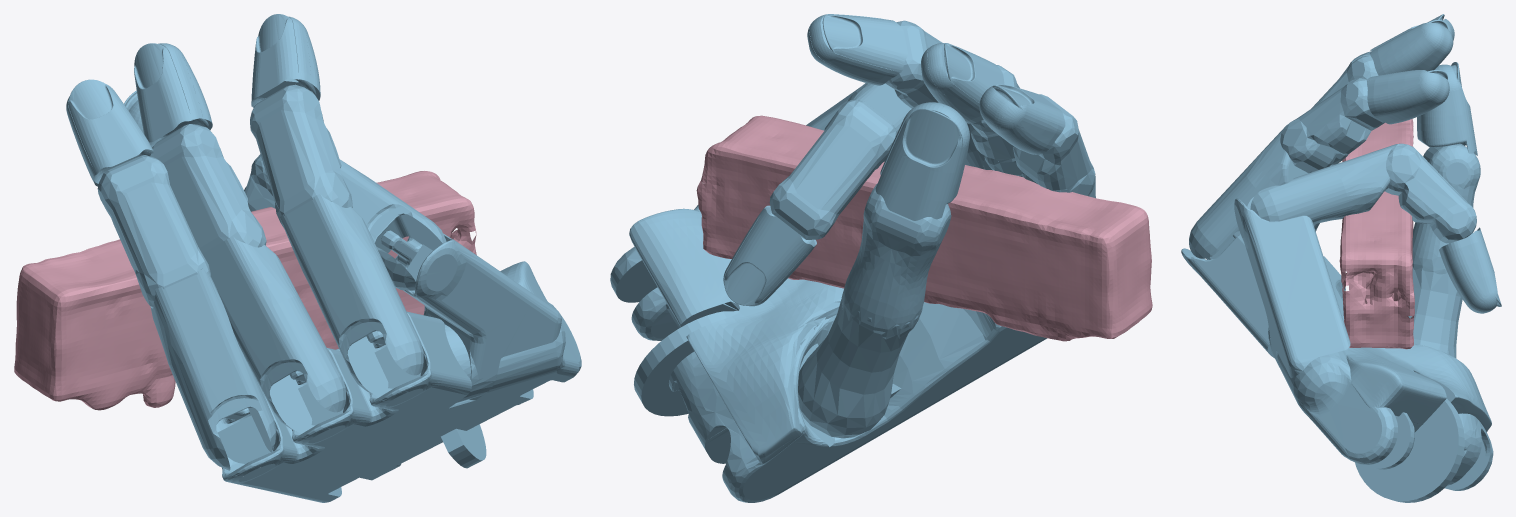
3 views of the same model, side by side, from view 1: azimuth 30°, elevation 25°; view 2: azimuth 150°, elevation 25°; view 3: azimuth 270°, elevation 25° (orthographic). The views are drawn at different scales.
Parts seen in each view (by area): view 1: hand, world; view 2: hand, world; view 3: hand, world.
Part boxes in pixels (left/top/right/bottom): hand: left=66, top=14, right=581, bottom=502; world: left=14, top=171, right=476, bottom=410; hand: left=610, top=14, right=1095, bottom=502; world: left=696, top=115, right=1152, bottom=341; hand: left=1181, top=14, right=1501, bottom=502; world: left=1339, top=119, right=1414, bottom=349.
Bounding box in the file's own units: 0.1633 × 0.1457 × 0.1061.
